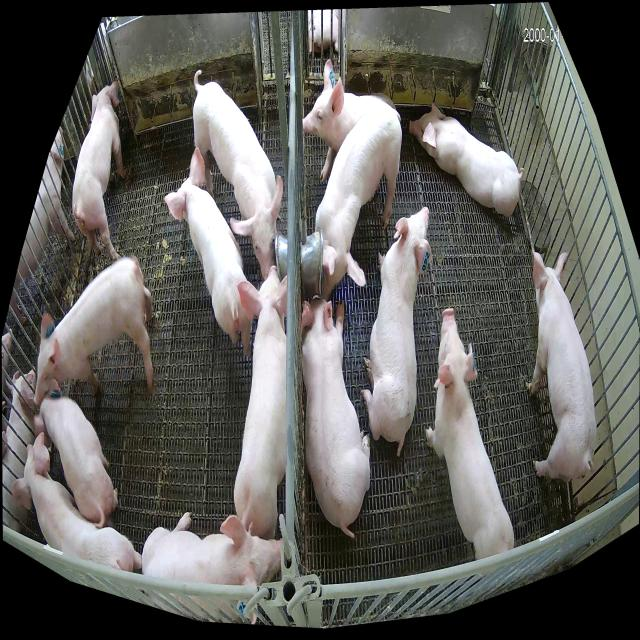pig: (426, 308, 515, 561), (164, 149, 252, 360), (12, 432, 142, 572), (193, 76, 283, 278), (34, 257, 154, 405), (361, 207, 432, 456), (315, 103, 402, 300), (526, 248, 596, 481), (301, 295, 370, 527), (233, 268, 287, 538), (34, 378, 118, 527), (410, 104, 520, 217), (302, 59, 396, 182), (142, 512, 284, 586), (73, 81, 127, 259)
